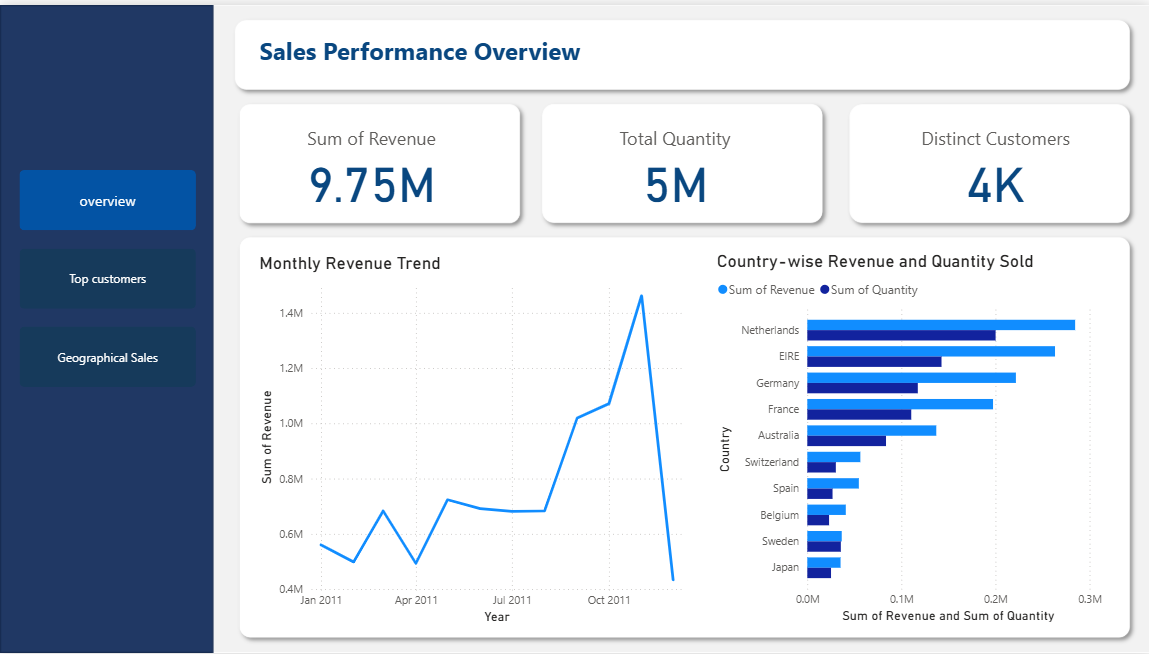

Layout of this report page (visuals, bound fields, positions):
{"tool":"powerbi","page":{"name":"overview","canvas":[1280,720],"ordinal":0},"visuals":[{"type":"card","fields":{"Values":["Sum(Online Retail.Quantity)"]},"box":[440.3,309.9,279.7,279.7],"z":0},{"type":"cardVisual","fields":{"Data":["Sum(Online Retail.Revenue)"]},"box":[282.9,117.2,259.5,120.4],"z":1000},{"type":"cardVisual","fields":{"Data":["Sum(Online Retail.Quantity)"]},"box":[640,116.7,220,121.7],"z":2000},{"type":"cardVisual","fields":{"Data":["Online Retail.DistinctCustomers"]},"box":[983.3,116.7,246.7,121.7],"z":3000},{"type":"lineChart","title":"Monthly Revenue Trend","fields":{"Y":["Sum(Online Retail.Revenue)"],"Category":["Online Retail.InvoiceDate.Variation.Date Hierarchy.Year","Online Retail.InvoiceDate.Variation.Date Hierarchy.Month"]},"box":[283.3,275,493.3,416.7],"z":4000},{"type":"clusteredBarChart","title":"Country-wise Revenue and Quantity Sold","fields":{"Category":["Online Retail.Country"],"Y":["Sum(Online Retail.Revenue)","Sum(Online Retail.Quantity)"]},"box":[790.9,273.5,437.6,417.3],"z":5000},{"type":"pageNavigator","box":[21.7,183.3,196.7,241.7],"z":6000},{"type":"textbox","box":[283.3,26.7,385,63.3],"z":6001}]}

Visuals, with their boxes on the page's 1280x720 design canvas (x1, y1, x2, y2). These are canvas units, not pixel positions in the 1149x654 screenshot, which may show the page scaled, cropped or inside an application window:
card - Sum(Online Retail.Quantity): bbox=(440, 310, 720, 590)
cardVisual - Sum(Online Retail.Revenue): bbox=(283, 117, 542, 238)
cardVisual - Sum(Online Retail.Quantity): bbox=(640, 117, 860, 238)
cardVisual - Online Retail.DistinctCustomers: bbox=(983, 117, 1230, 238)
"Monthly Revenue Trend" lineChart: bbox=(283, 275, 777, 692)
"Country-wise Revenue and Quantity Sold" clusteredBarChart: bbox=(791, 274, 1228, 691)
pageNavigator: bbox=(22, 183, 218, 425)
textbox: bbox=(283, 27, 668, 90)
